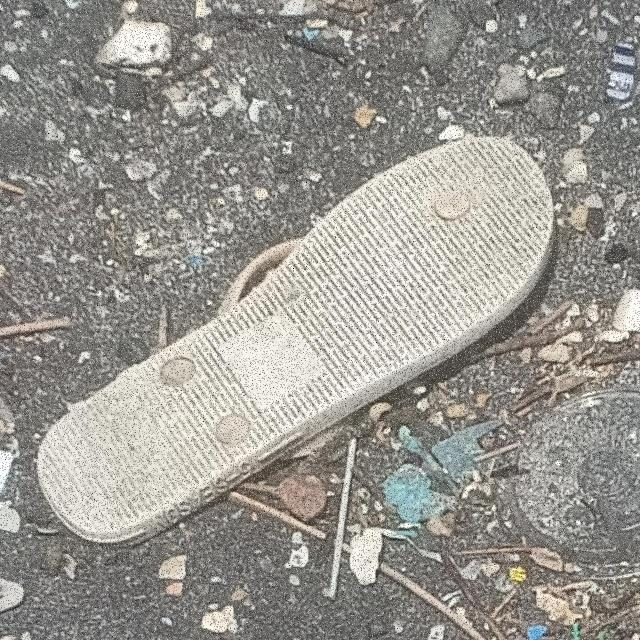rubber_waste: (36, 136, 557, 548)
